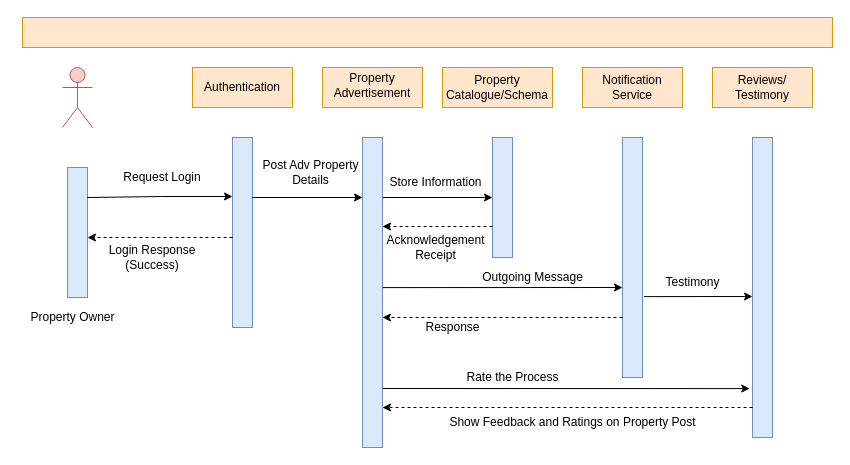
The diagram is 850 pixels wide and 465 high, and some of its shapes have lost their labels. The shapes that lost their labels are listed below. From the top down, each one's box as (x1, y1, x2, y2) in pixels, then its label:
(22, 16, 832, 48): Rental Accomodation Management System
(62, 66, 92, 128): Actor
